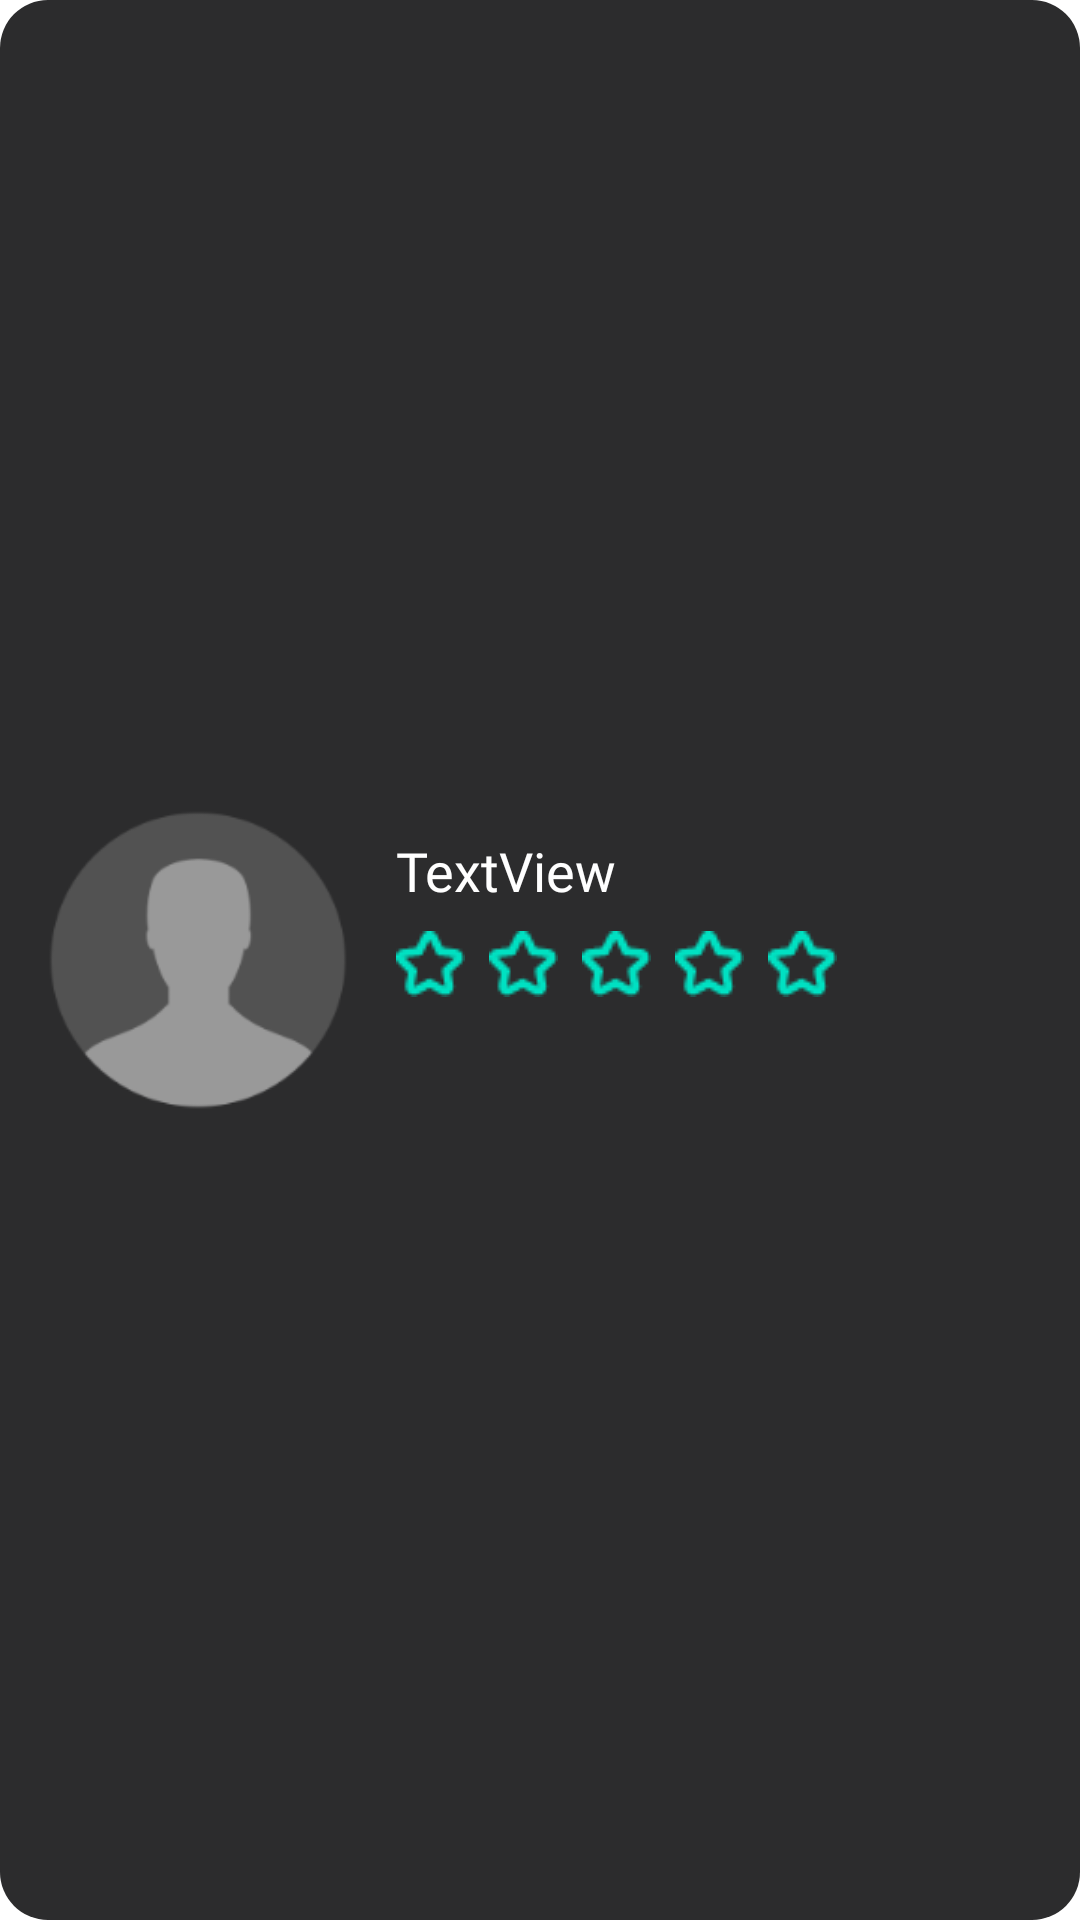

Where icons sit on this 1080w x 1920h app screen, as bbox(x1, y1, x2, y2):
star empty: bbox(396, 931, 465, 997), bbox(489, 931, 558, 997), bbox(582, 931, 651, 997), bbox(675, 931, 744, 997), bbox(768, 931, 837, 997)
